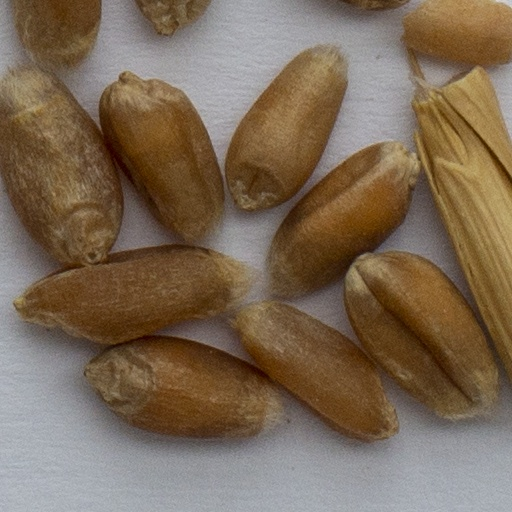Peel-poly: (414, 69, 511, 385)
